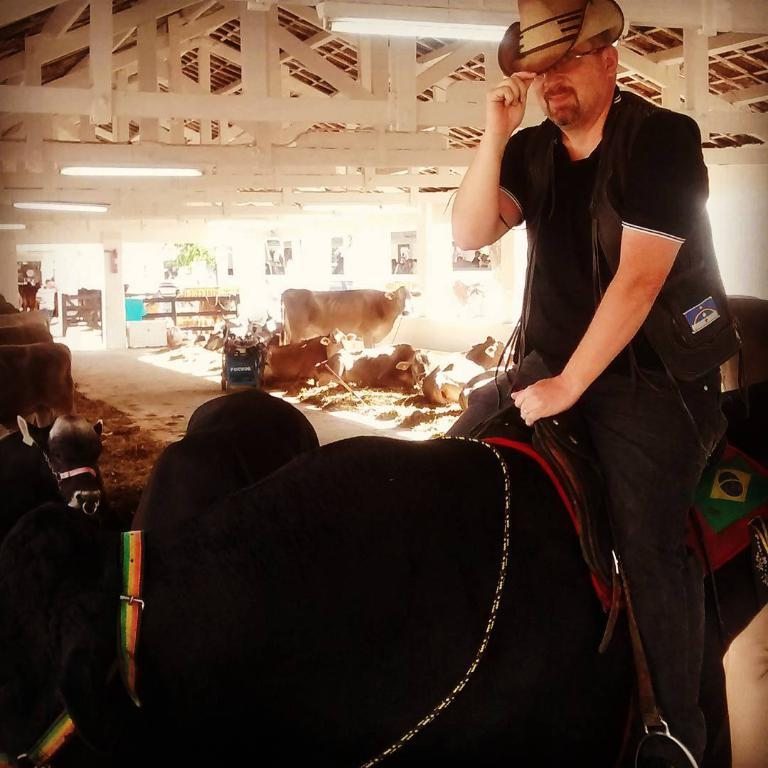Hat: (496, 0, 625, 81)
